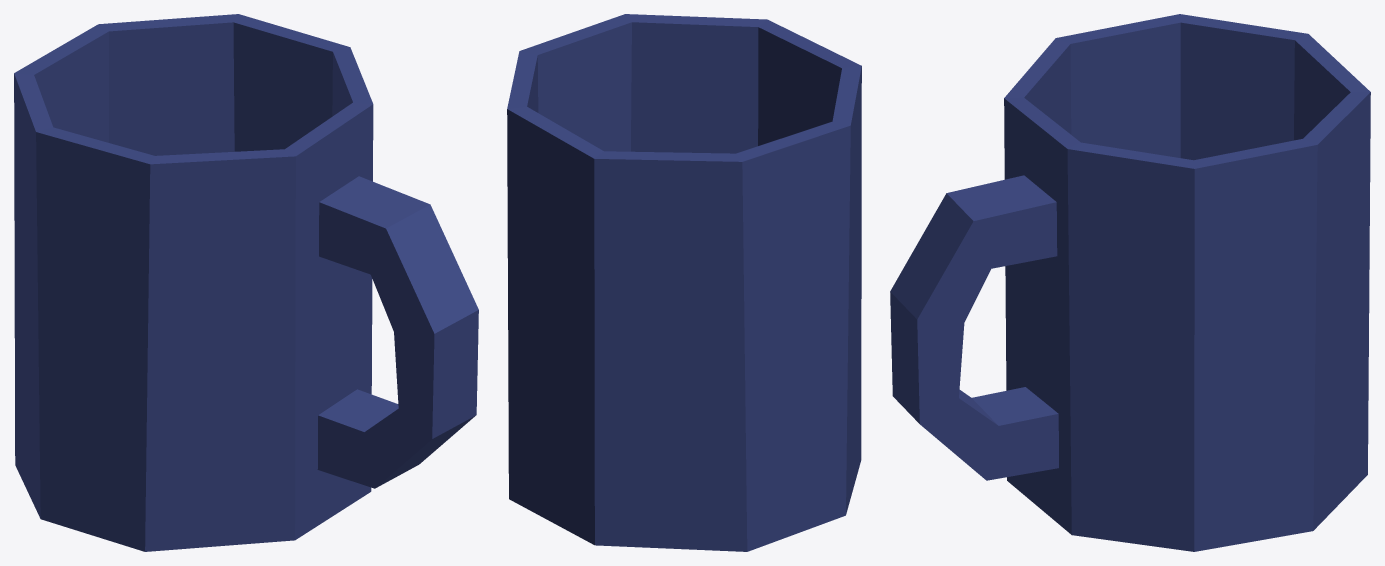
The model's file is Office_Cup.fbx.
The picture shows the model from 3 angles, left to right: view 1: azimuth 30°, elevation 25°; view 2: azimuth 150°, elevation 25°; view 3: azimuth 270°, elevation 25°; orthographic projection.
Parts seen in each view (by area): view 1: Office_Cup; view 2: Office_Cup; view 3: Office_Cup.
Boxes of the visible parts, left/top/right/bottom form: Office_Cup: left=14, top=14, right=478, bottom=551; Office_Cup: left=507, top=14, right=861, bottom=551; Office_Cup: left=890, top=14, right=1370, bottom=551.
Size of the model in its own units: 18.29 by 21.52 by 23.85.
